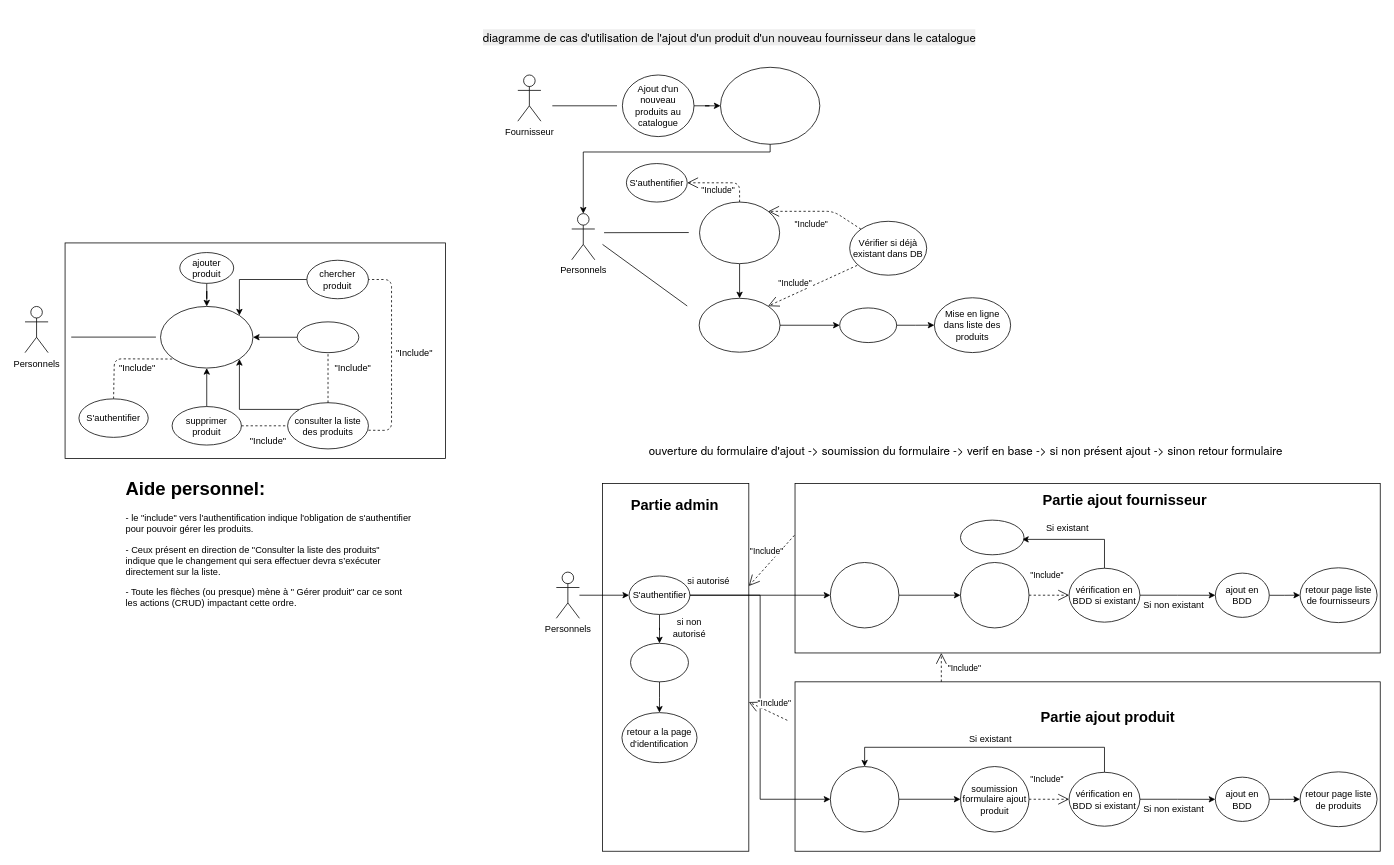
This 1394x865 diagram has some shape labels left out. The shapes that lost their labels are listed below. From the top down, each one's box as (x1, y1, x2, y2) in pixels, then its label:
(720, 67, 820, 144): Prise de contact avec des commerciaux pour mise en vente
(699, 201, 780, 264): Création nouveau fournisseur
(160, 306, 253, 368): Gérer produits
(296, 321, 359, 353): modifier produit
(698, 298, 780, 352): Ajout nouveau produit
(839, 307, 897, 343): Ajout dans DB
(960, 519, 1024, 555): Affichage erreur
(830, 562, 899, 628): ouverture formulaire ajout fournisseur
(960, 562, 1029, 628): soumission formulaire ajout fournisseur
(630, 643, 688, 682): affichage d'erreur
(830, 766, 899, 832): ouverture formulaire ajout produit
